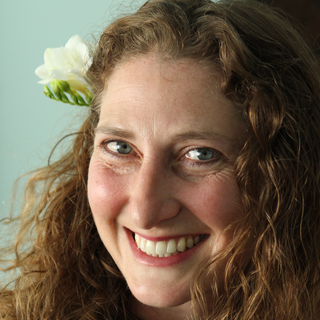eye: (98, 135, 140, 161), (182, 144, 224, 168)
